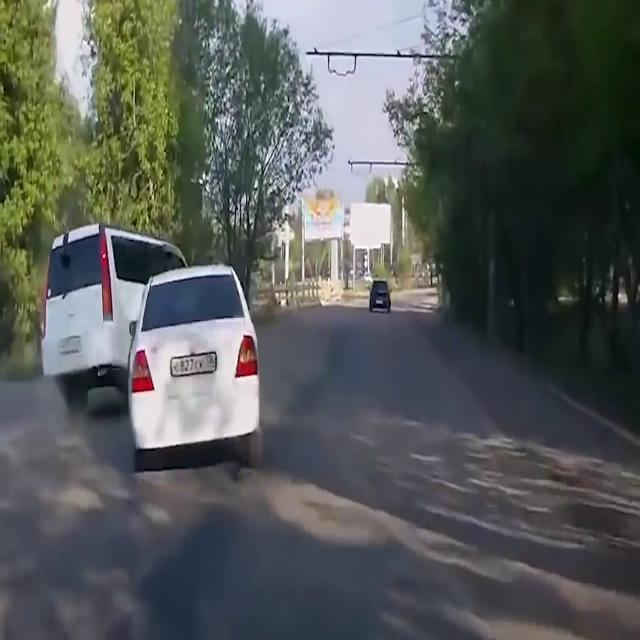accident: (42, 222, 264, 476)
